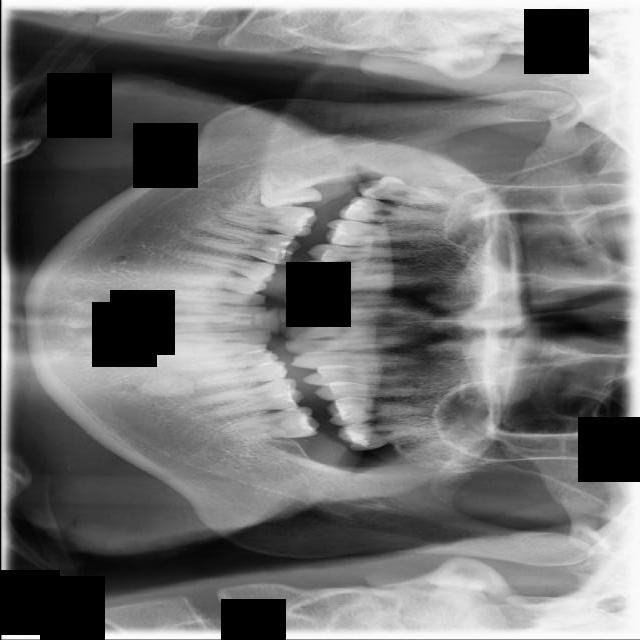3M ESPE Implant: (355, 171, 467, 212)
52: (251, 222, 304, 278), (275, 197, 323, 247), (259, 369, 307, 419), (267, 403, 321, 443), (324, 393, 371, 429), (335, 193, 386, 225), (335, 420, 383, 452), (321, 218, 368, 248)
73: (70, 616, 80, 620)
BioHorizons Implant: (336, 415, 457, 452)
Blue Sky Bio Implant: (216, 405, 319, 444)
Caries: (335, 193, 458, 232)
Implant: (215, 198, 318, 238)
Keystone Dental Implant: (256, 161, 323, 212)
